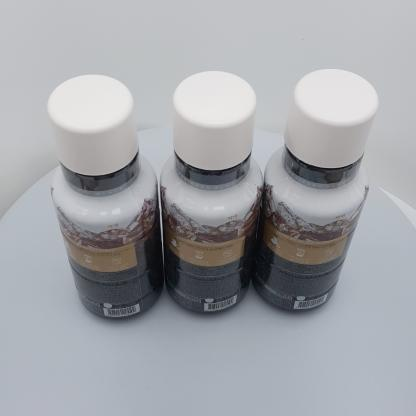-------------1-1L: (251, 68, 379, 312), (47, 74, 164, 320), (160, 71, 263, 314)
